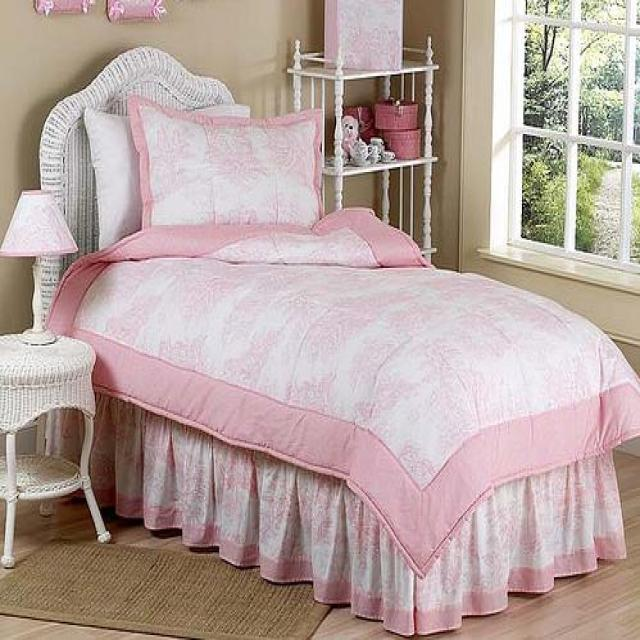bed: (37, 48, 640, 640)
